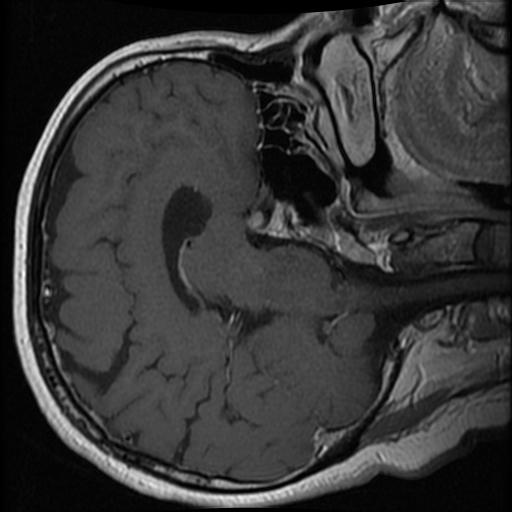pituitary tumour: (246, 200, 293, 238)
